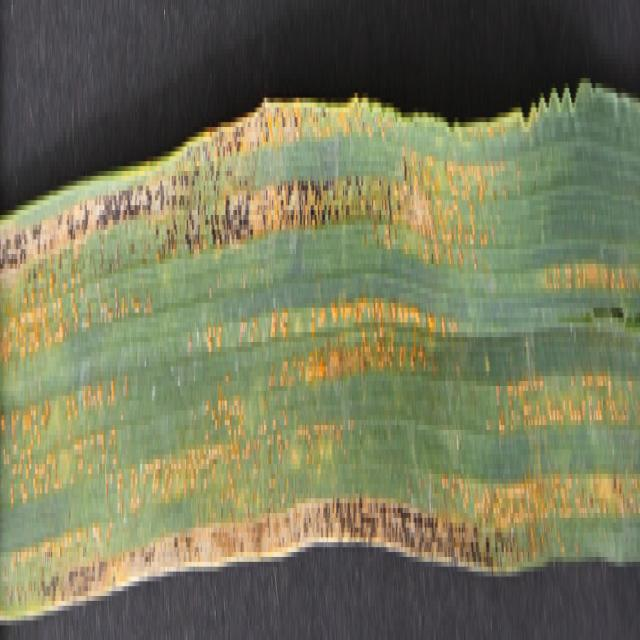leaf rust: (1, 142, 639, 581)
